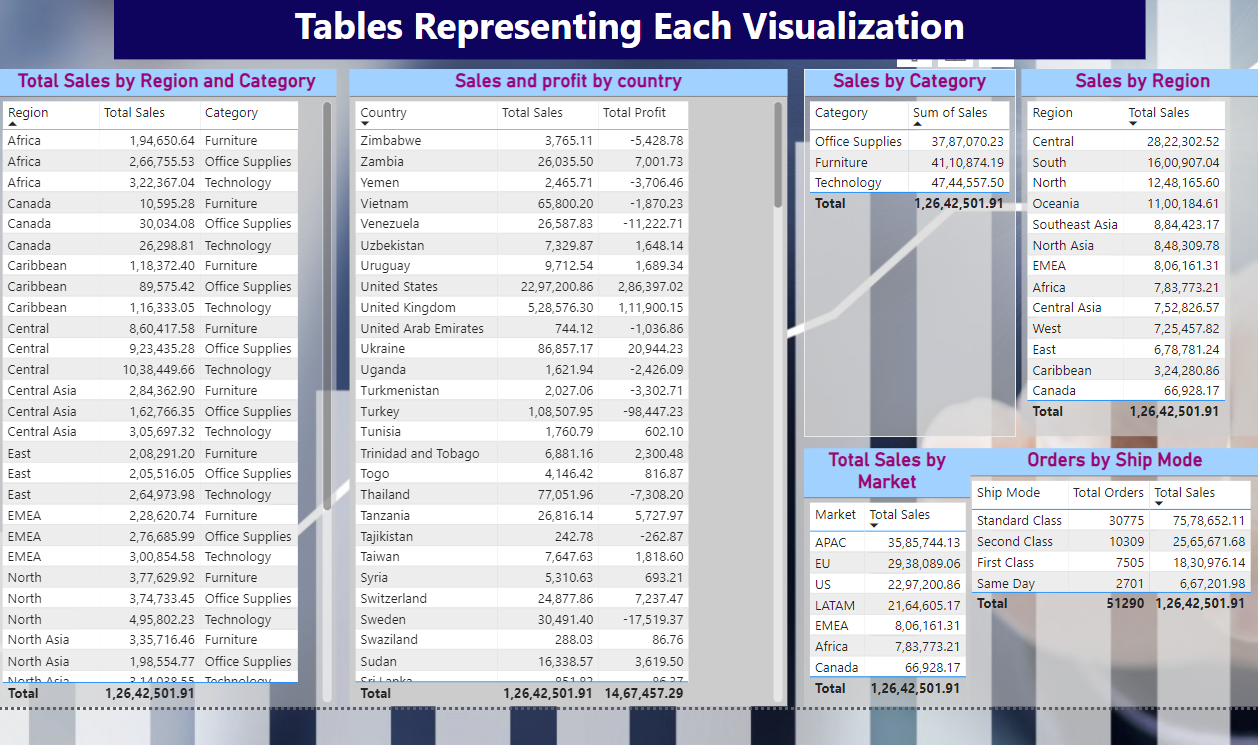

The page's visual inventory and layout, read from the dashboard file:
{"tool":"powerbi","page":{"name":"Table Dashboard","canvas":[1280,720],"ordinal":0},"visuals":[{"type":"tableEx","title":"Sales by Category","fields":{"Values":["Orders.Category","Sum(Orders.Sales)"]},"box":[814.6,75.7,213.5,371],"z":0},{"type":"textbox","box":[118.1,0,1041.1,66.2],"z":1000},{"type":"tableEx","title":"Sales by Region","fields":{"Values":["Orders.Region","Orders.Total Sales"]},"box":[1034.2,75.7,245.3,371],"z":2000},{"type":"tableEx","title":"Orders by Ship Mode","fields":{"Values":["Orders.Ship Mode","Orders.Total Orders","Orders.Total Sales"]},"box":[978.2,458.8,301.3,260.4],"z":3000},{"type":"tableEx","title":"Total Sales by Market","fields":{"Values":["Orders.Market","Orders.Total Sales"]},"box":[814.6,458.8,168.1,260.4],"z":4000},{"type":"tableEx","title":"Total Sales by Region and Category","fields":{"Values":["Orders.Region","Orders.Total Sales","Orders.Category"]},"box":[0,76.3,342.7,643.7],"z":5000},{"type":"tableEx","title":"Sales and profit by country","fields":{"Values":["Orders.Country","Orders.Total Sales","Orders.Total Profit"]},"box":[355.8,75.7,442.1,643.5],"z":6000}]}

Visuals, with their boxes on the page's 1280x720 design canvas (x1, y1, x2, y2). These are canvas units, not pixel positions in the 1258x745 screenshot, which may show the page scaled, cropped or inside an application window:
"Sales by Category" tableEx: 815:76:1028:447
textbox: 118:0:1159:66
"Sales by Region" tableEx: 1034:76:1280:447
"Orders by Ship Mode" tableEx: 978:459:1280:719
"Total Sales by Market" tableEx: 815:459:983:719
"Total Sales by Region and Category" tableEx: 0:76:343:720
"Sales and profit by country" tableEx: 356:76:798:719
